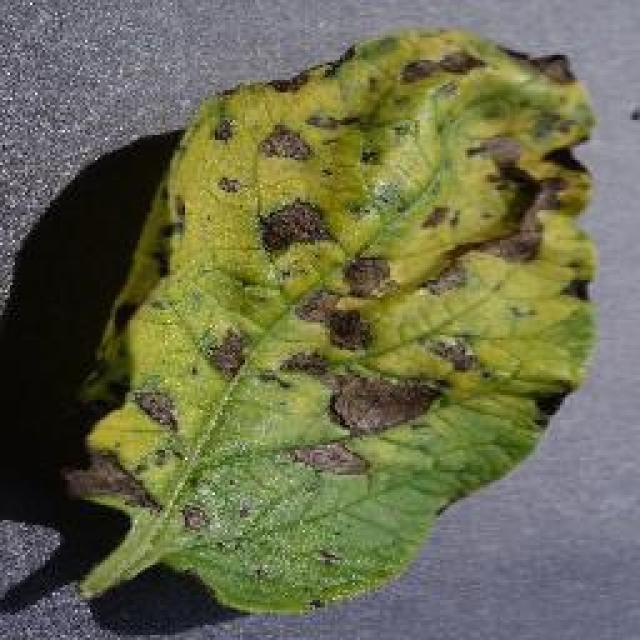early_blight: (60, 22, 602, 620)
